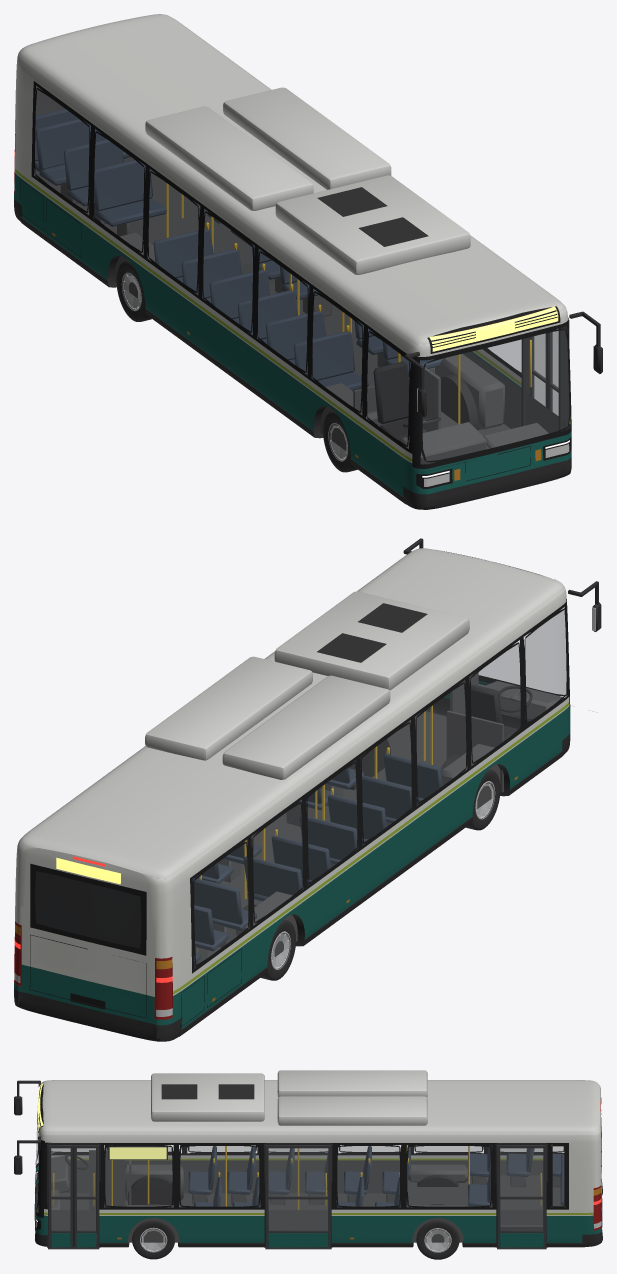
The model's file is city_bus.glb.
3 renders of one model, top to bottom at view 1: azimuth 30°, elevation 25°; view 2: azimuth 150°, elevation 25°; view 3: azimuth 270°, elevation 25°, orthographic. The views are drawn at different scales.
Visible parts, largest first — view 1: body, interior, glass_side_R, roof_equipment, glass_windscreen, door_wells, door_front_b_leaf, wheel_RR_mesh, wheel_FR_mesh, door_front_a_leaf; view 2: body, glass_side_R, roof_equipment, interior, glass_rear, glass_windscreen, wheel_RR_mesh, wheel_FR_mesh, door_wells; view 3: body, interior, glass_side_L, roof_equipment, door_mid_leaf, door_rear_leaf, door_front_a_leaf, door_front_b_leaf, door_wells, glass_side_R, wheel_RL_mesh, wheel_FL_mesh (+4 smaller).
Boxes of the visible parts, x1,y1,x2,y2 form: body: [14, 14, 571, 509]; interior: [34, 85, 565, 464]; glass_side_R: [33, 88, 410, 446]; roof_equipment: [145, 87, 470, 274]; glass_windscreen: [419, 329, 570, 462]; door_wells: [337, 317, 569, 431]; door_front_b_leaf: [529, 333, 548, 408]; wheel_RR_mesh: [116, 261, 151, 321]; wheel_FR_mesh: [323, 411, 357, 472]; door_front_a_leaf: [547, 331, 558, 415]; body: [14, 548, 570, 1041]; glass_side_R: [193, 608, 567, 966]; roof_equipment: [145, 591, 469, 779]; interior: [192, 672, 563, 968]; glass_rear: [32, 869, 143, 949]; glass_windscreen: [478, 606, 567, 695]; wheel_RR_mesh: [260, 919, 295, 980]; wheel_FR_mesh: [466, 769, 500, 830]; door_wells: [246, 714, 433, 846]; body: [34, 1080, 602, 1247]; interior: [51, 1145, 565, 1242]; glass_side_L: [103, 1144, 566, 1208]; roof_equipment: [151, 1070, 427, 1125]; door_mid_leaf: [264, 1145, 331, 1247]; door_rear_leaf: [496, 1145, 546, 1247]; door_front_a_leaf: [48, 1145, 74, 1247]; door_front_b_leaf: [73, 1145, 98, 1247]; door_wells: [47, 1142, 547, 1249]; glass_side_R: [51, 1145, 565, 1152]; wheel_RL_mesh: [416, 1220, 459, 1259]; wheel_FL_mesh: [132, 1220, 174, 1259].
Size of the model in its own units: 3.05 by 3.05 by 11.39.
